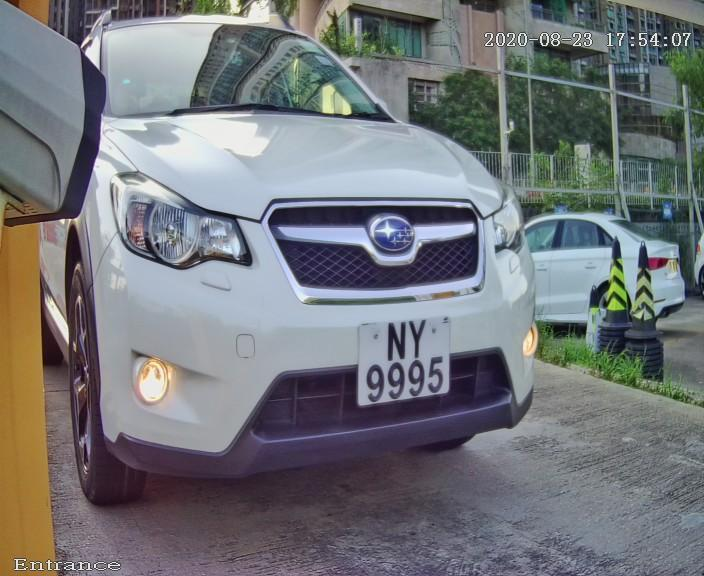Car: (26, 11, 591, 520)
License Plate: (315, 284, 486, 442)
